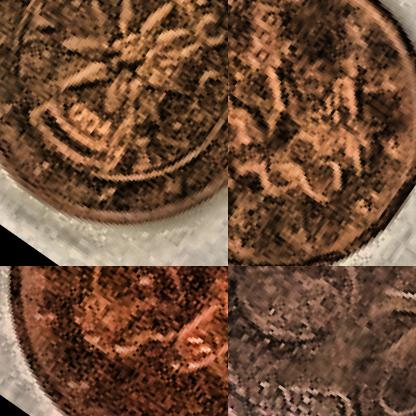coin: (0, 0, 227, 265), (228, 0, 415, 265), (0, 266, 227, 415), (228, 266, 415, 415)
